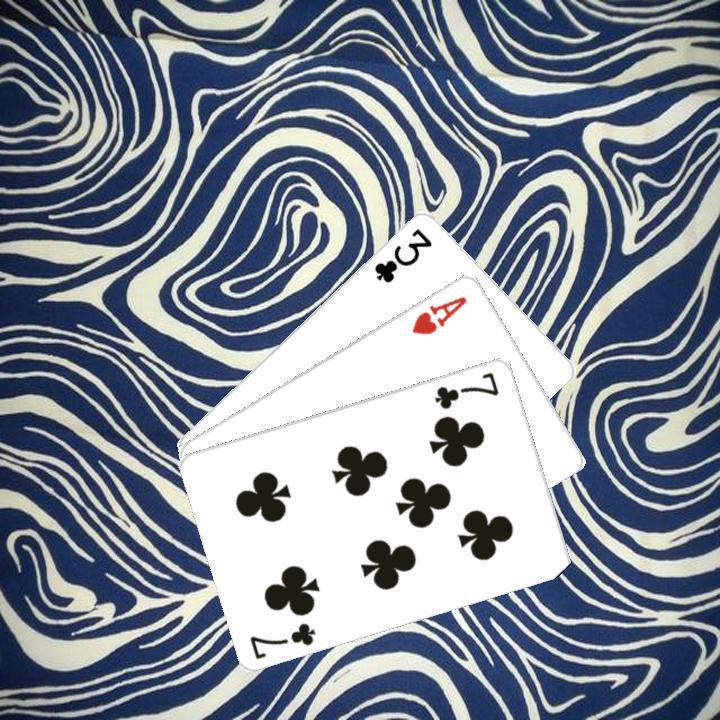3: (369, 223, 435, 285)
7: (245, 617, 318, 661), (430, 367, 501, 411)
A: (407, 291, 469, 337)
